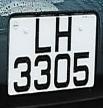0: (52, 52, 75, 91)
3: (11, 53, 35, 95), (31, 51, 53, 94)
5: (72, 50, 91, 88)
H: (51, 14, 76, 56)
L: (29, 14, 56, 56)
